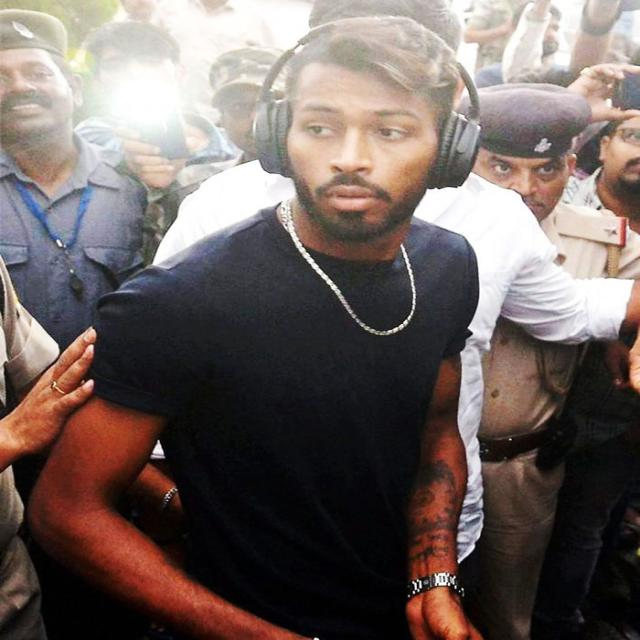body: (141, 0, 640, 640), (29, 17, 491, 640), (454, 81, 640, 640), (0, 6, 157, 361), (70, 17, 245, 267), (114, 0, 639, 81), (0, 252, 96, 639), (137, 43, 288, 269), (536, 60, 640, 246)
